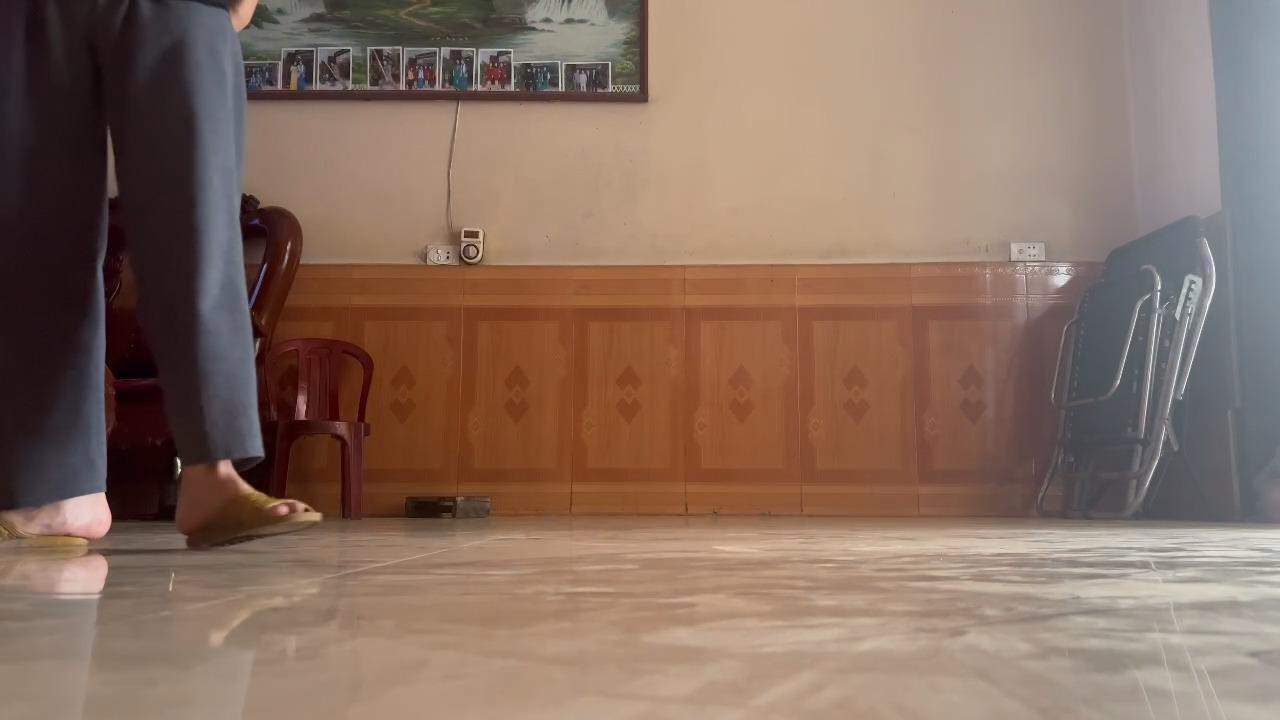no-boot: (169, 477, 332, 557), (0, 489, 129, 562)
